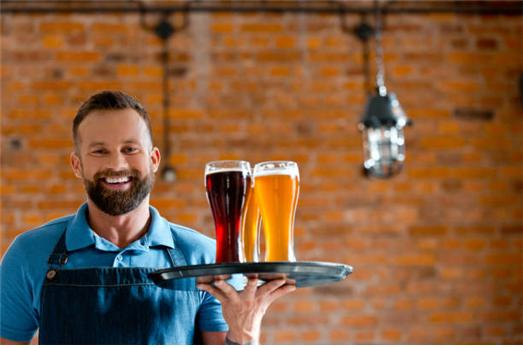alcohol: (201, 158, 251, 271), (251, 162, 300, 265)
